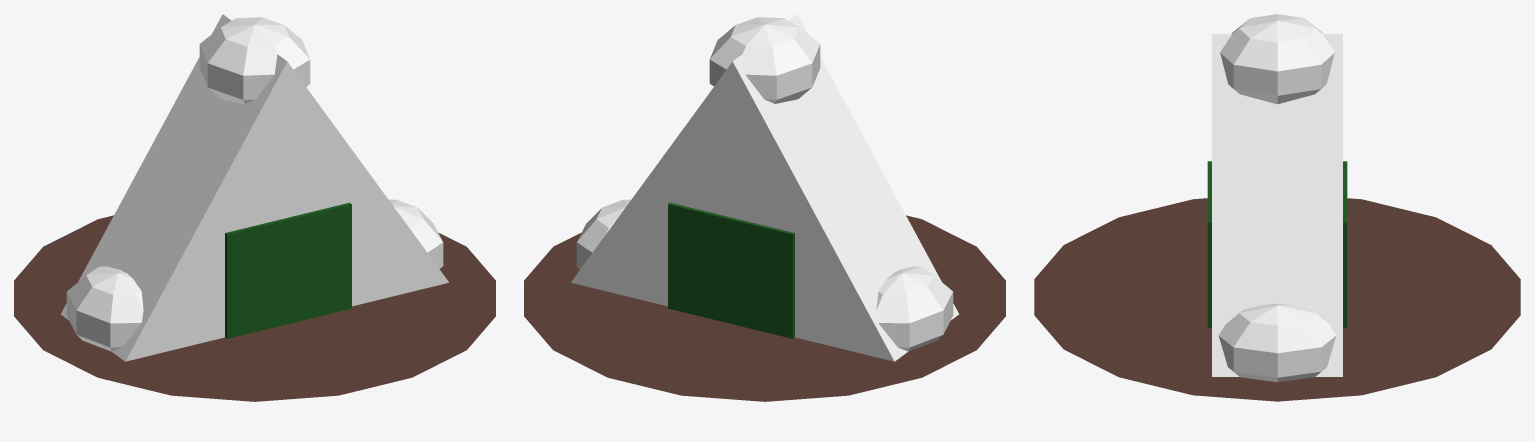
The model's file is risboll.glb.
3 renders of one model, left to right at view 1: azimuth 30°, elevation 25°; view 2: azimuth 150°, elevation 25°; view 3: azimuth 270°, elevation 25°, orthographic.
Visible parts, largest first — view 1: risboll; view 2: risboll; view 3: risboll.
Boxes of the visible parts, box(x1,y1,x2,y2) form: risboll: box(14, 14, 495, 401); risboll: box(524, 14, 1005, 401); risboll: box(1034, 14, 1520, 401).
Size of the model in its own units: 0.34 by 0.23 by 0.3349.
